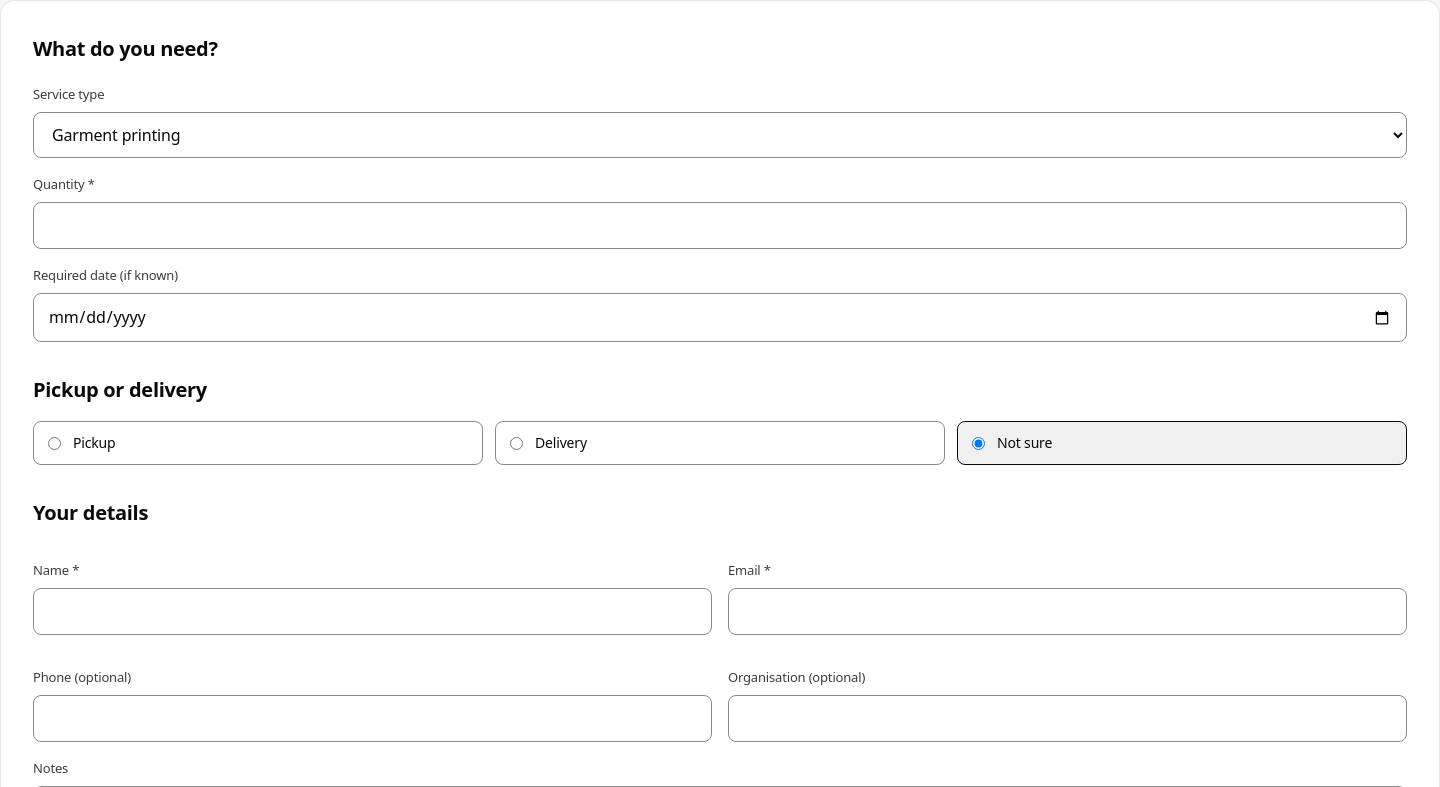
Test: QuoteFormClient › preserves the form and shows an explicit contact fallback after network failure
In the number field labelled "Quantity *": point(720, 226) [33,202,1407,249], type "10"
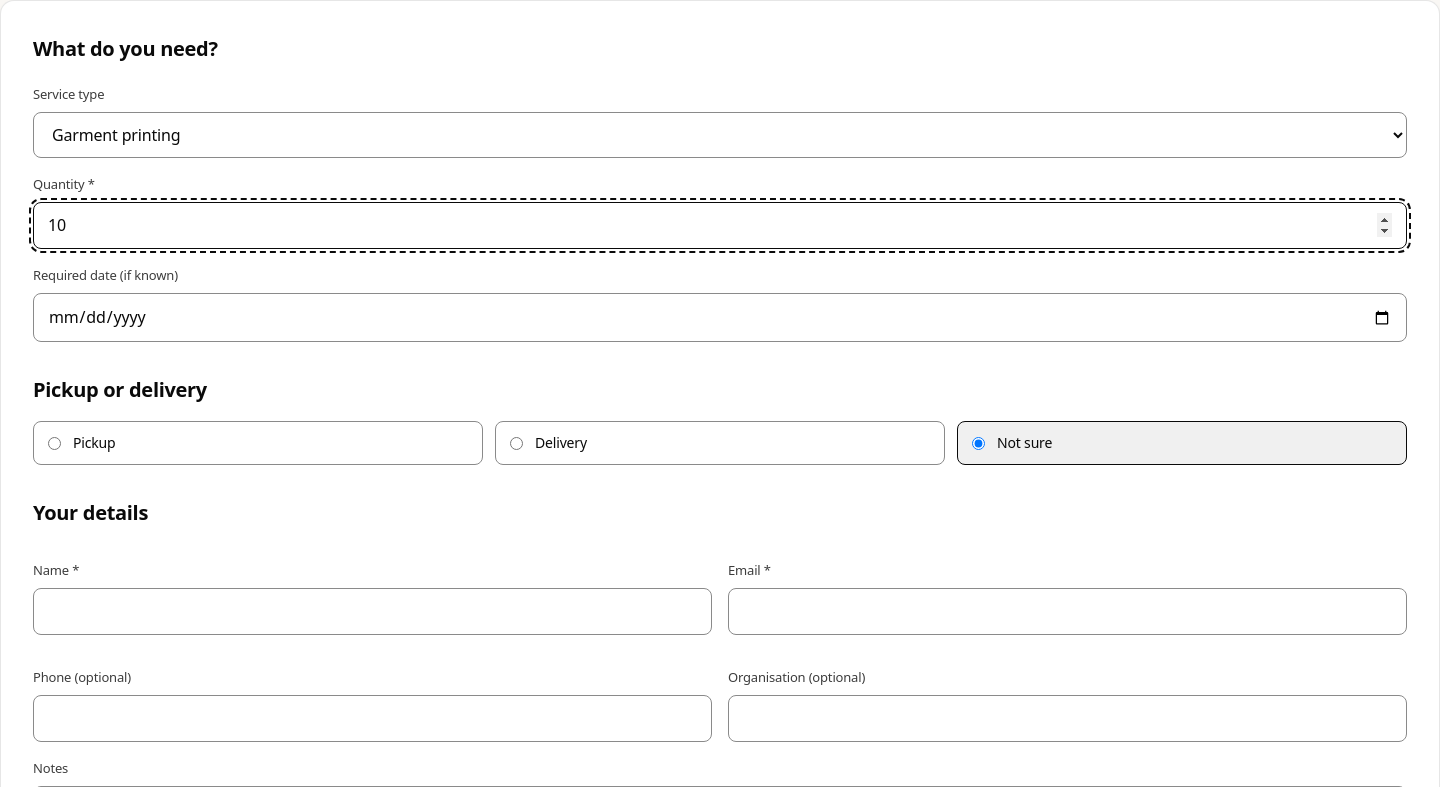
In the field labelled "Name *": point(372, 612) [33,588,712,635], type "Customer"
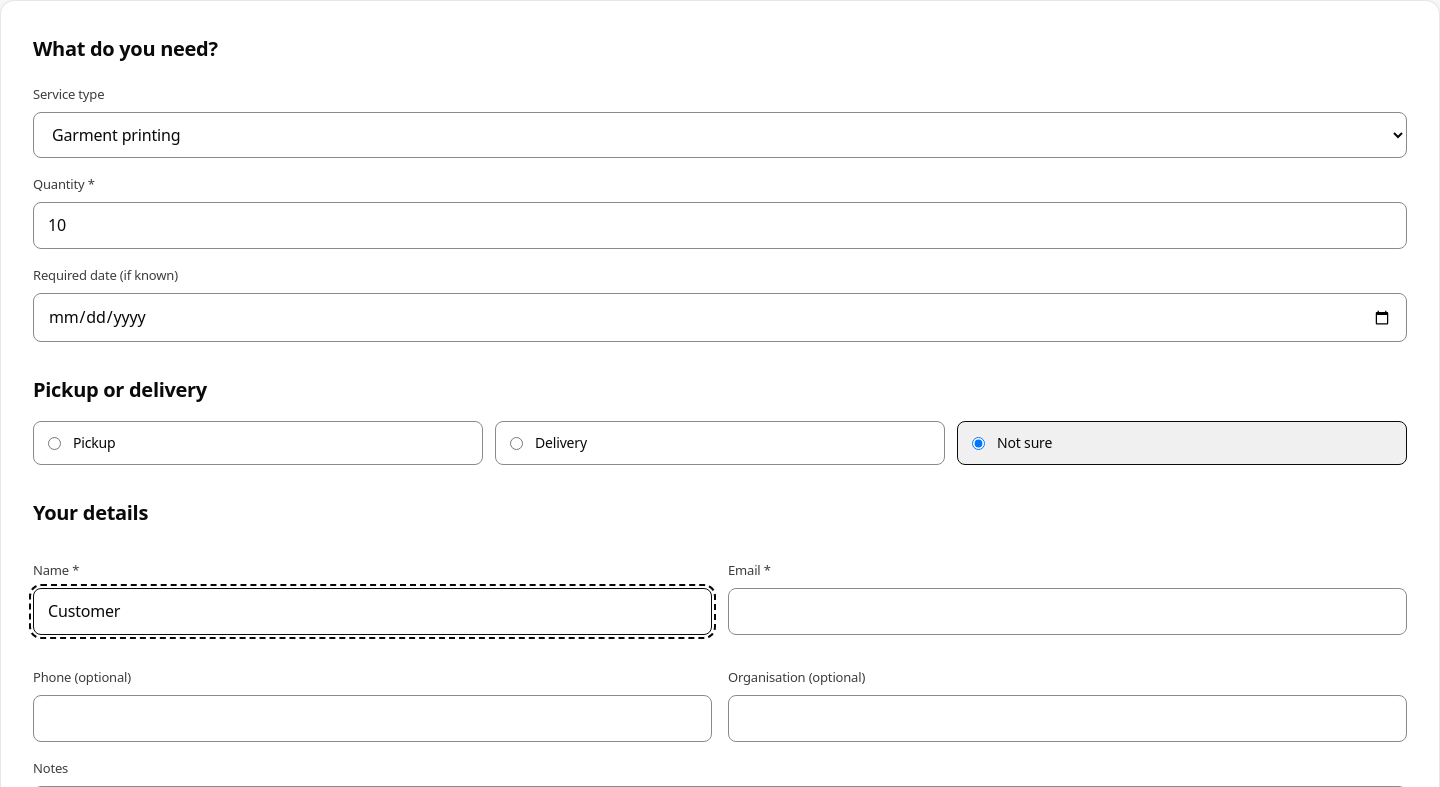
In the field labelled "Email *": point(1068, 612) [728,588,1407,635], type "customer@example.com"
(page scrolled)
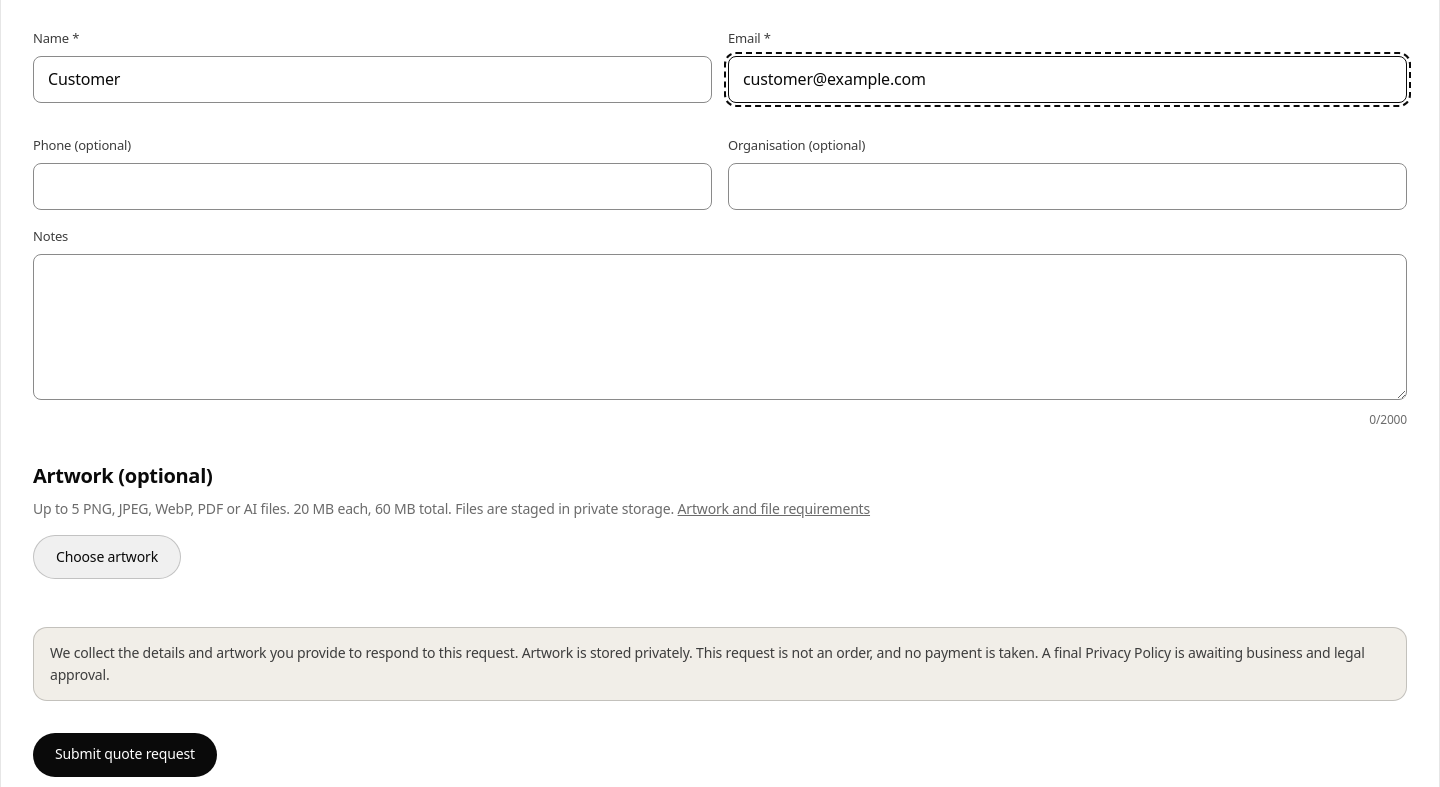
Click the button "Submit quote request": point(125, 755) [33,733,217,777]
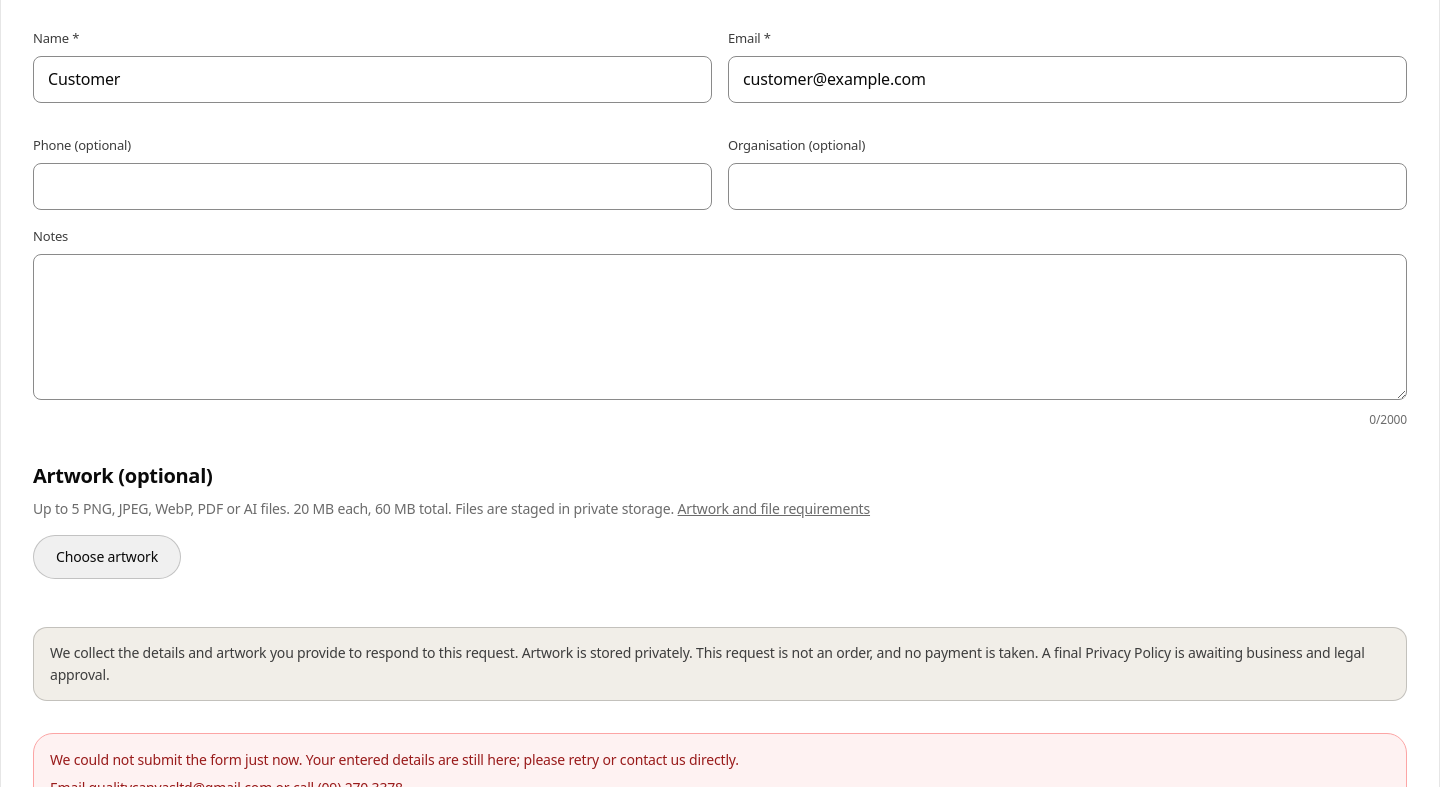
Check: the message shows "could not submit", box [50,750,739,769]
